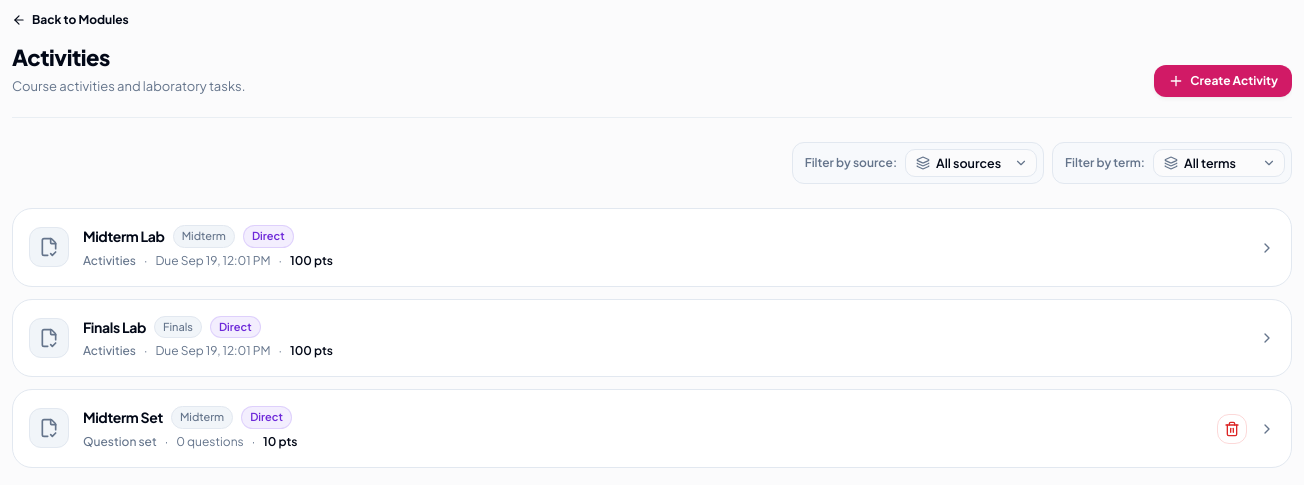
Test case: ActivitiesView term filter › filters classic activities and question sets by term
expect the heading "Midterm Lab" is shown: met, box [83, 226, 165, 247]
expect the heading "Finals Lab" is shown: met, box [83, 317, 146, 338]
Click the button with aria-label "filter by term" at (1219, 163), box [1153, 149, 1285, 177]
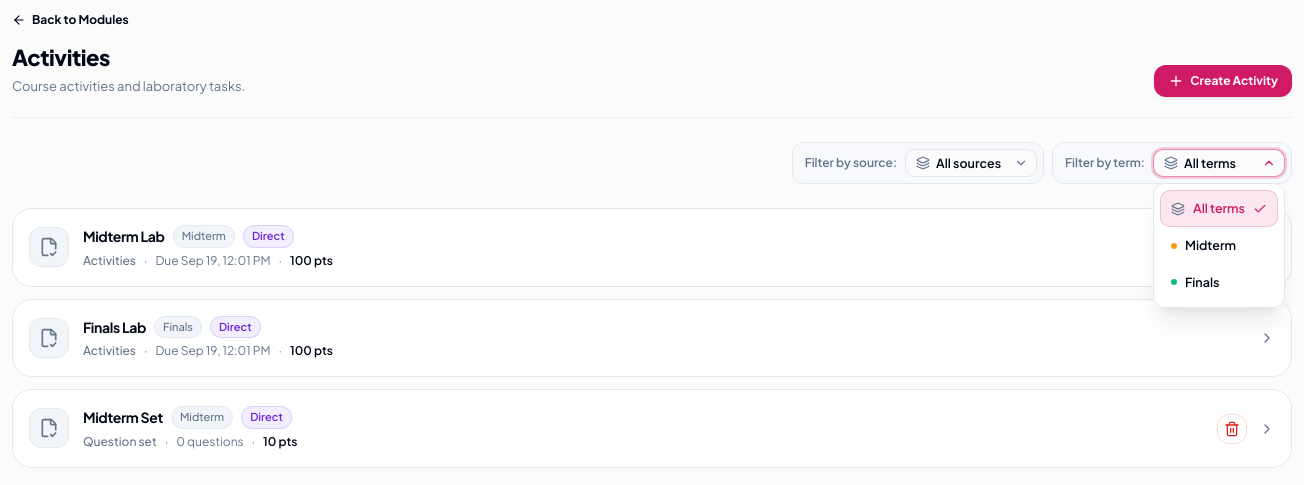
Click the option "Midterm" at (1219, 246), box [1160, 227, 1278, 264]
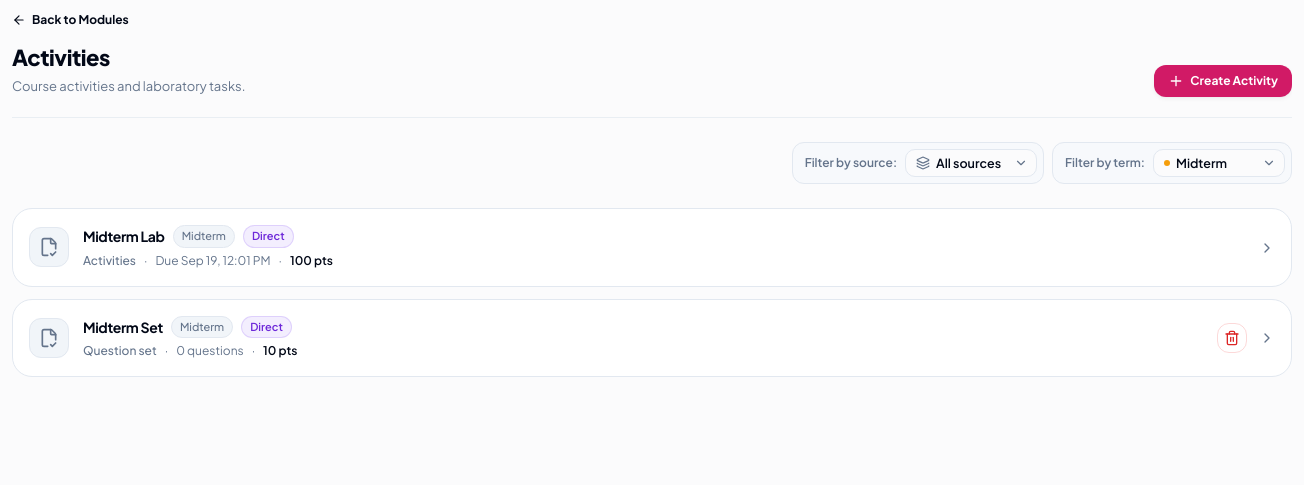
expect the heading "Midterm Lab" is shown: met, box [83, 226, 165, 247]
expect the heading "Finals Lab" is gone: met
